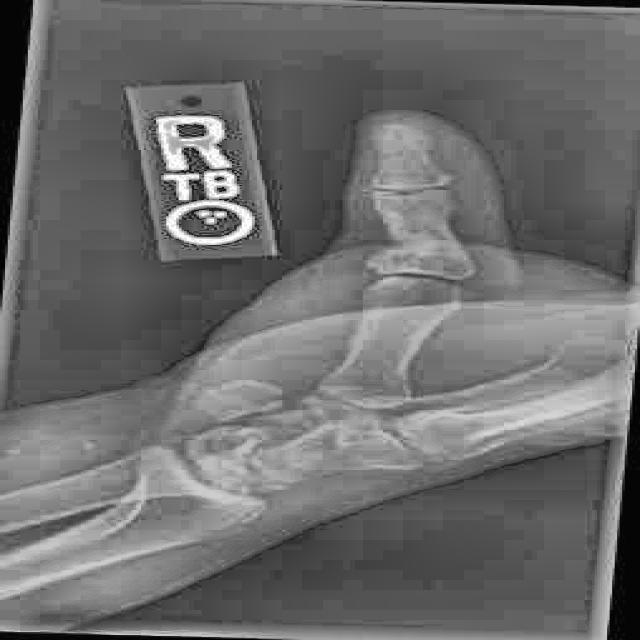fingers positive: (374, 226, 490, 272), (368, 128, 448, 158)
